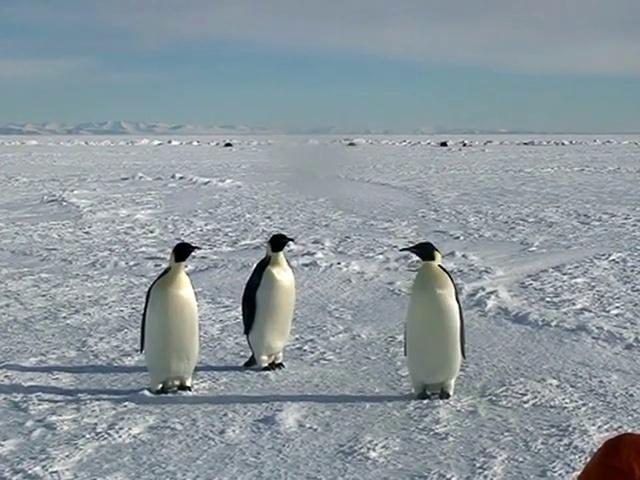animal: (402, 242, 466, 400)
